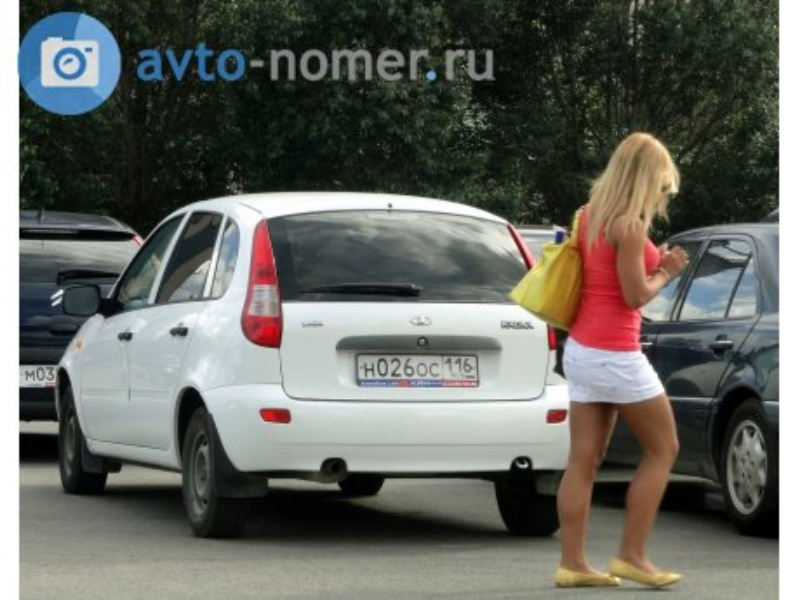car: (55, 188, 571, 537), (645, 222, 780, 537), (19, 208, 146, 422)
person: (555, 130, 689, 588)
plate: (358, 356, 476, 379), (19, 364, 56, 387)
